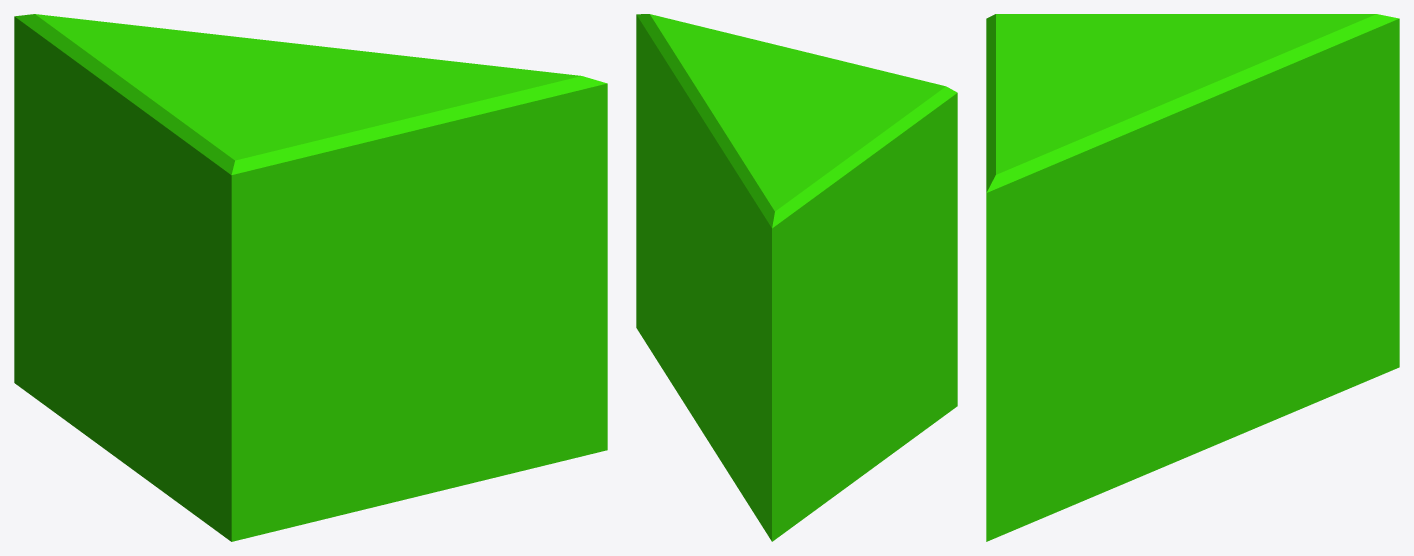
Rendered from triangle_2x2.fbx.
3 renders of one model, left to right at view 1: azimuth 30°, elevation 25°; view 2: azimuth 150°, elevation 25°; view 3: azimuth 270°, elevation 25°, orthographic. The views are drawn at different scales.
Visible parts, largest first — view 1: triangle_2x2; view 2: triangle_2x2; view 3: triangle_2x2.
Boxes of the visible parts, left/top/right/bottom form: triangle_2x2: left=14, top=14, right=607, bottom=541; triangle_2x2: left=636, top=14, right=957, bottom=541; triangle_2x2: left=986, top=14, right=1399, bottom=541.
Size of the model in its own units: 220 by 210 by 220.
